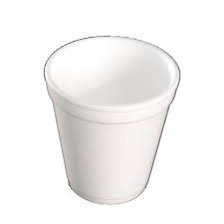paper_cup: (37, 29, 184, 207)
